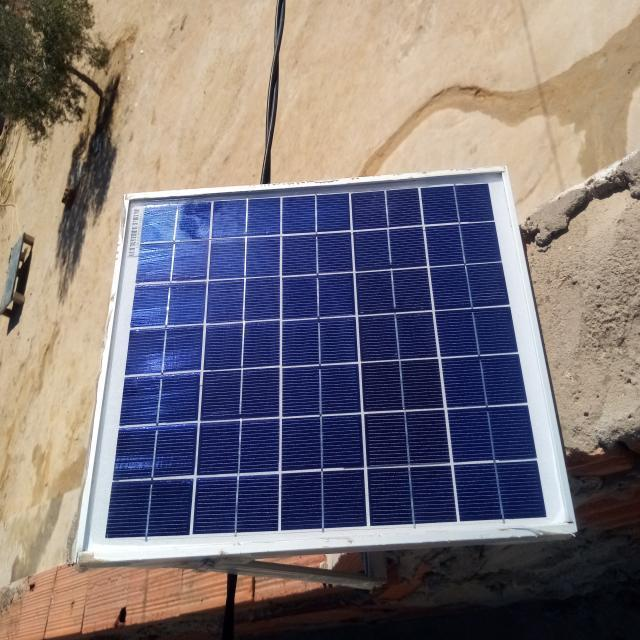Normal Solar Panel: (77, 170, 575, 558)
